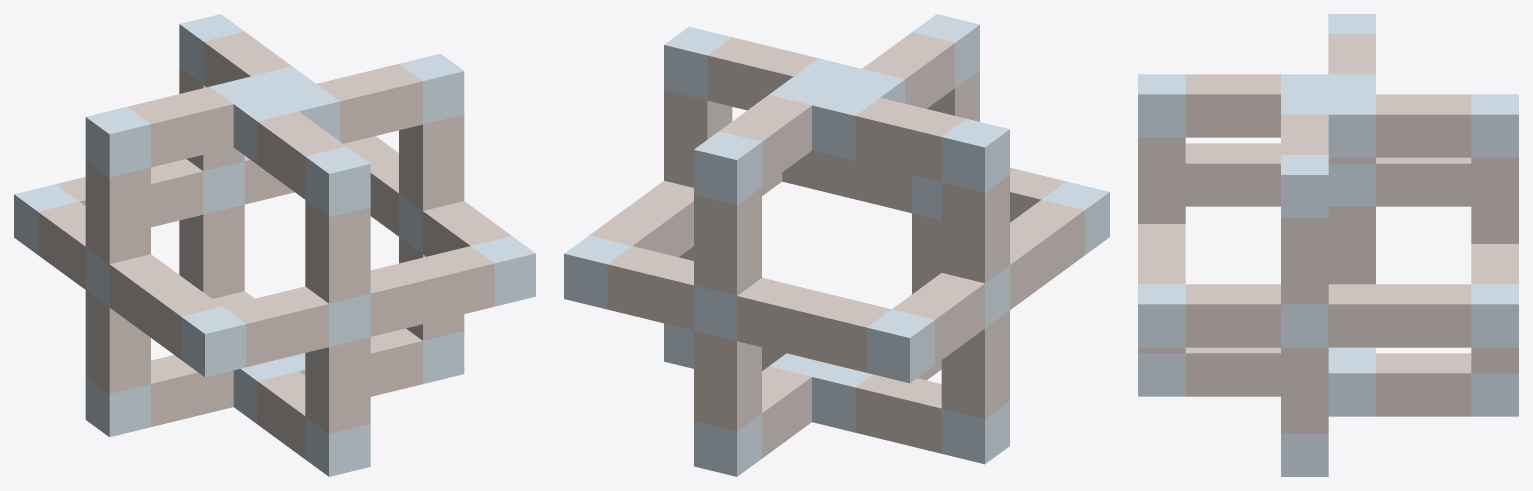
The model's file is Core.obj.
The picture shows the model from 3 angles, left to right: view 1: azimuth 30°, elevation 25°; view 2: azimuth 150°, elevation 25°; view 3: azimuth 270°, elevation 25°; orthographic projection. The views are drawn at different scales.
Parts seen in each view (by area): view 1: Core; view 2: Core; view 3: Core.
Part boxes in pixels (x1,y1,x2,y2): Core: (14,14,535,476); Core: (564,14,1109,476); Core: (1138,14,1518,476).
Bounding box in the file's own units: 0.8 × 0.7 × 0.8.
1 material, 1 textured.
